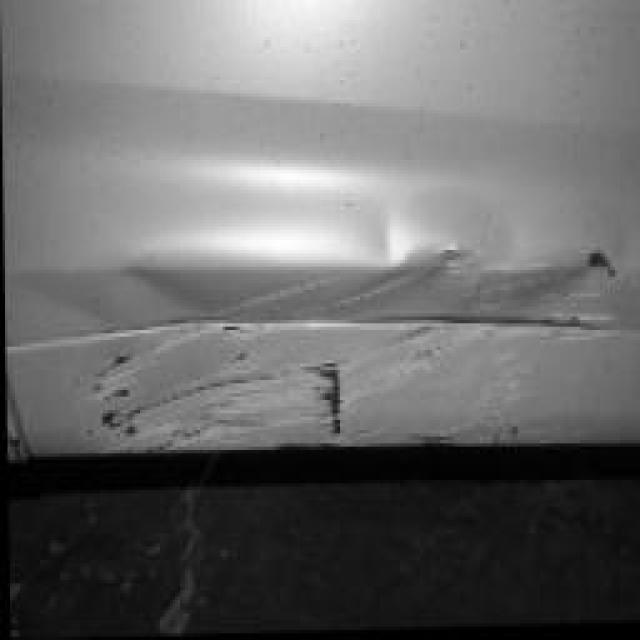Door: (48, 193, 640, 521)
